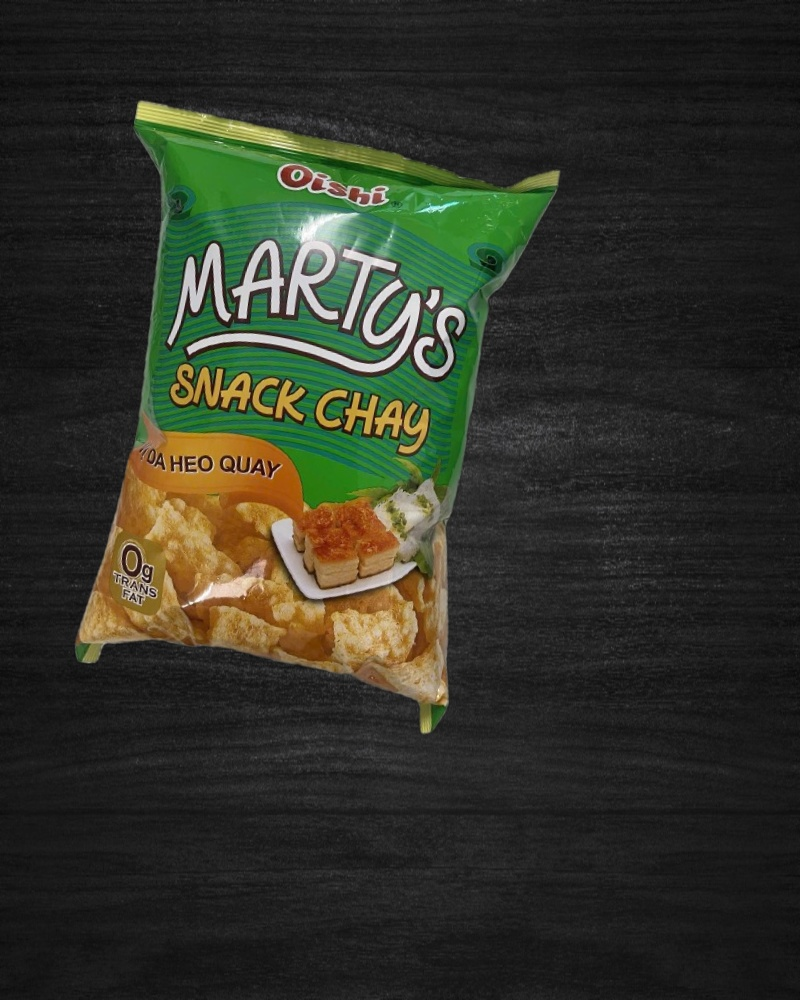Snack chay: (39, 96, 562, 742)
